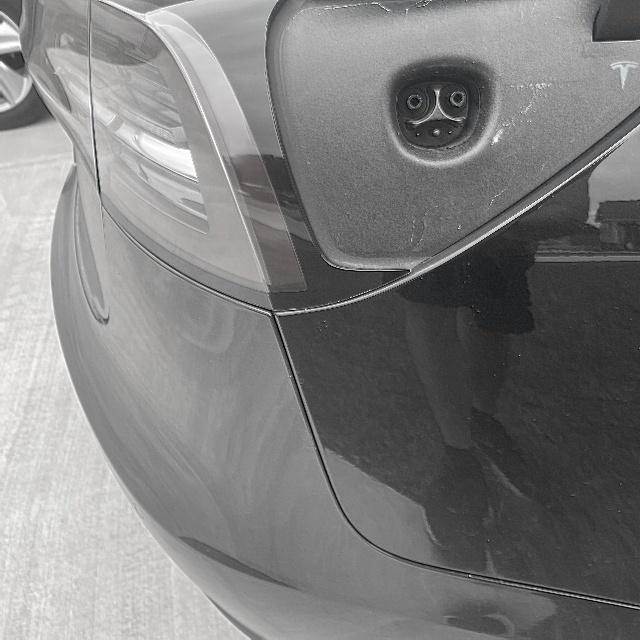Tesla Model-S-: (372, 49, 505, 178)
